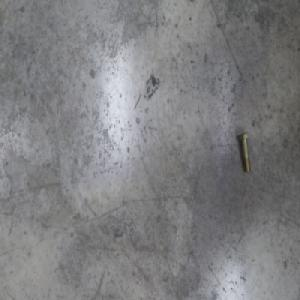Bolt: (237, 131, 250, 173)
